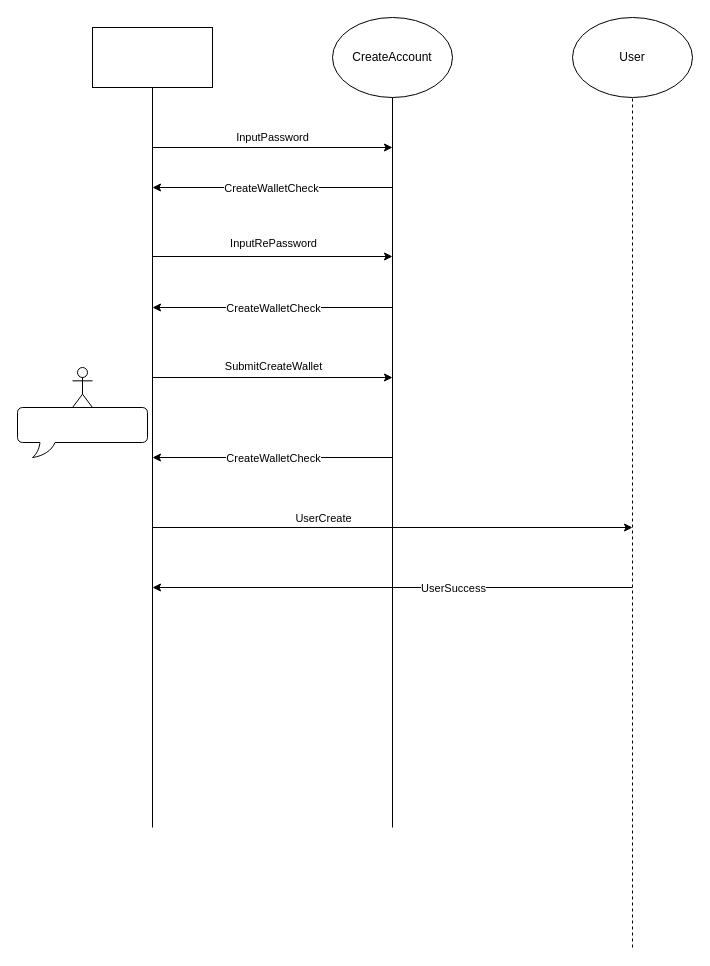
The diagram is 710 pixels wide and 966 high, and some of its shapes have lost their labels. The shapes that lost their labels are listed below. From the top down, each one's box as (x1, y1, x2, y2) in pixels, then its label:
(92, 26, 212, 88): Welcome Screen
(16, 406, 148, 458): CreateFormError
